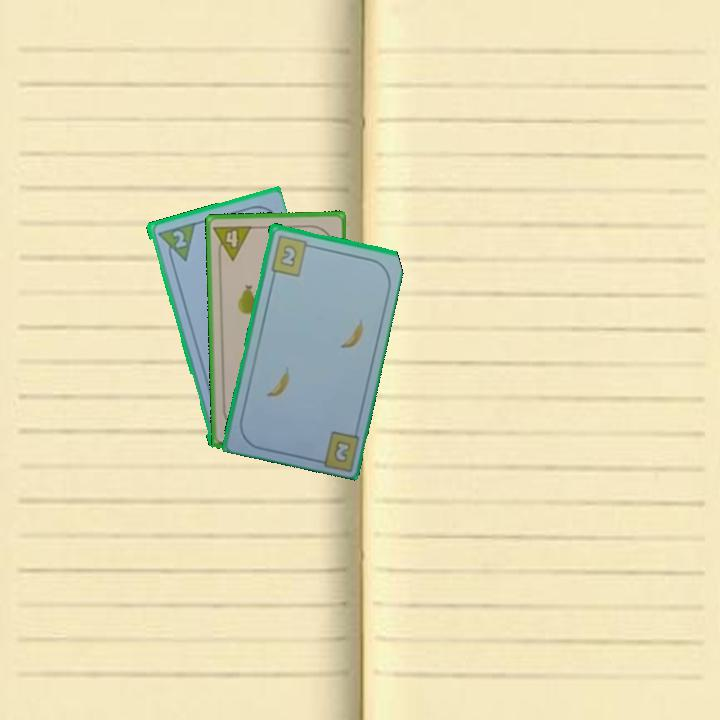2b: (267, 231, 315, 279), (330, 436, 354, 465)
2p: (169, 226, 189, 251)
4p: (210, 221, 255, 263)
